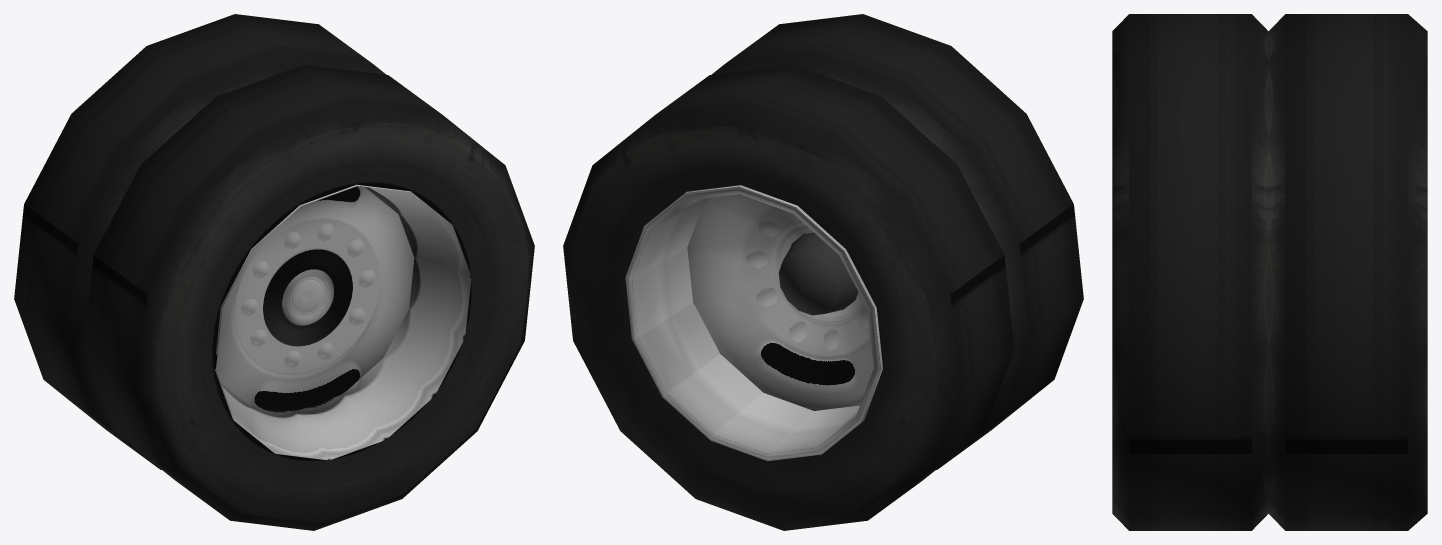
File: wheel_RL 90 light commercial truck.fbx
The picture shows the model from 3 angles, left to right: view 1: azimuth 30°, elevation 25°; view 2: azimuth 150°, elevation 25°; view 3: azimuth 270°, elevation 25°; orthographic projection. The views are drawn at different scales.
Visible parts, largest first — view 1: wheel_RL; view 2: wheel_RL; view 3: wheel_RL.
Part boxes in pixels (bbox=[...]): wheel_RL: bbox=[14, 14, 534, 530]; wheel_RL: bbox=[563, 14, 1083, 530]; wheel_RL: bbox=[1112, 14, 1427, 530].
Bounding box in the file's own units: 0.7354 × 0.7354 × 0.4492.
